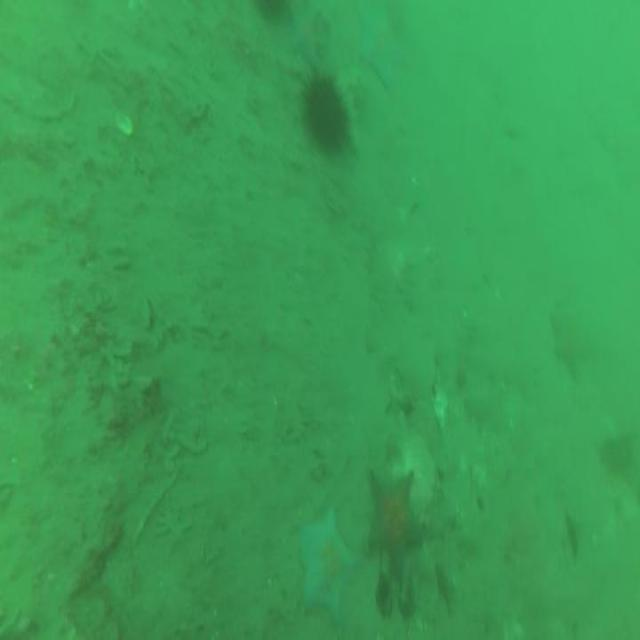echinus: (301, 78, 347, 150)
starfish: (295, 502, 356, 620), (365, 472, 423, 577), (552, 296, 593, 380)
